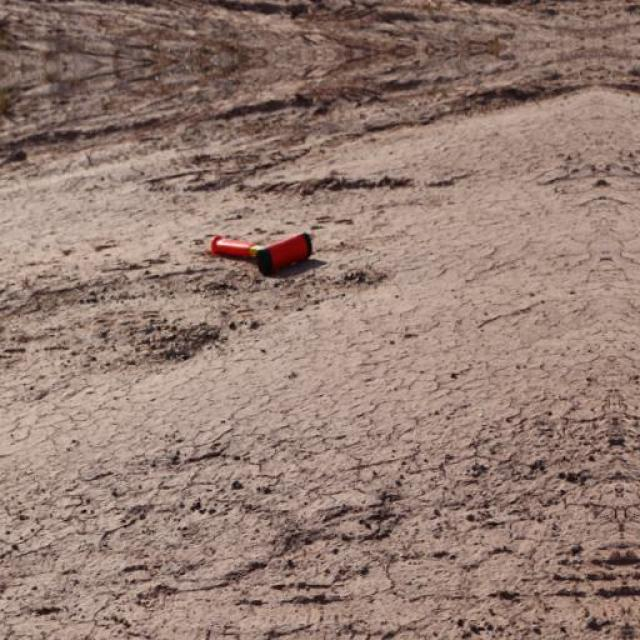mallet: (208, 230, 314, 276)
